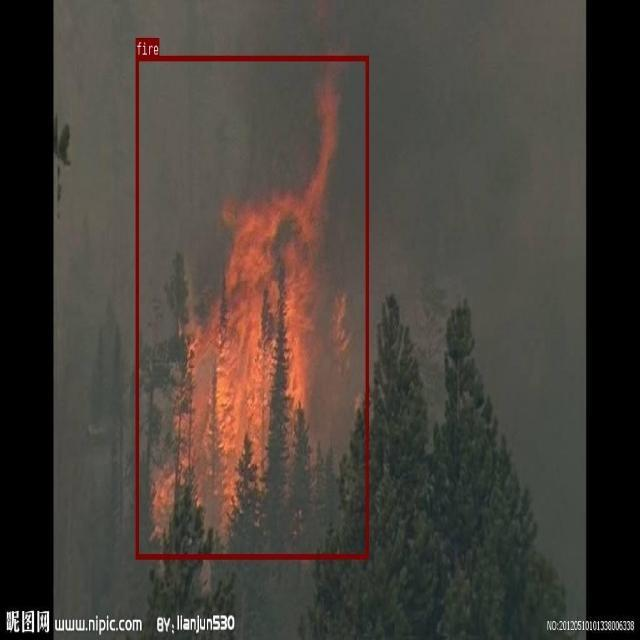fire: (136, 55, 368, 558)
